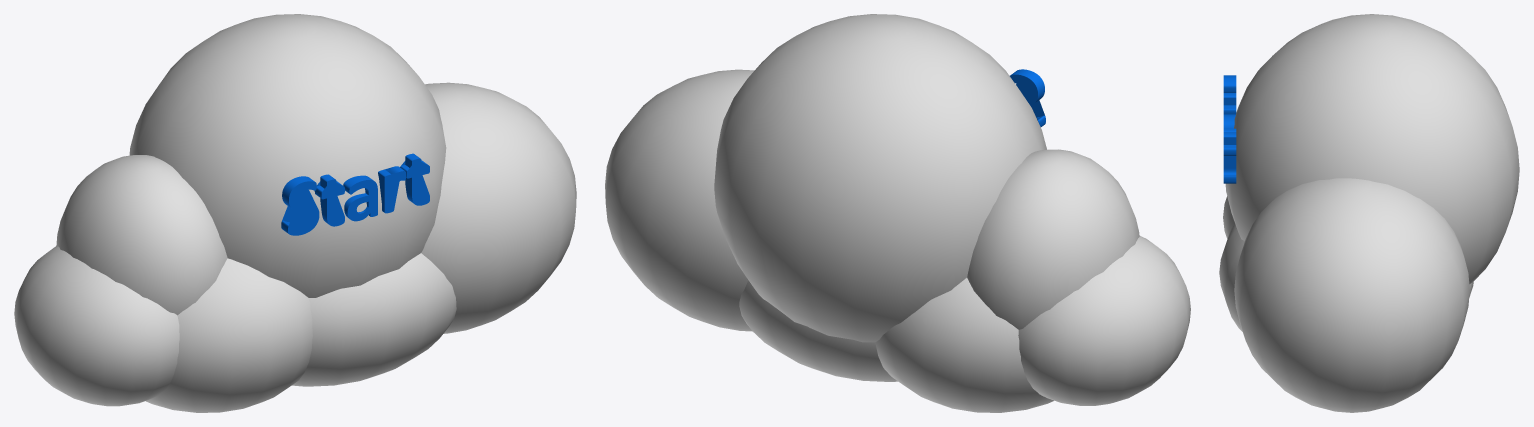
Rendered from cloud.fbx.
The picture shows the model from 3 angles, left to right: view 1: azimuth 30°, elevation 25°; view 2: azimuth 150°, elevation 25°; view 3: azimuth 270°, elevation 25°; orthographic projection. The views are drawn at different scales.
Visible parts, largest first — view 1: pSphere8, pSphere1, pSphere5, pSphere7, pSphere4, pSphere3, typeMesh1; view 2: pSphere8, pSphere1, pSphere7, pSphere5, pSphere4, pSphere3, typeMesh1; view 3: pSphere8, pSphere1, typeMesh1, pSphere3, pSphere4.
Part boxes in pixels (left/top/right/bottom): pSphere8: left=129, top=14, right=446, bottom=297; pSphere1: left=421, top=82, right=576, bottom=333; pSphere5: left=14, top=246, right=179, bottom=406; pSphere7: left=56, top=155, right=227, bottom=315; pSphere4: left=145, top=258, right=312, bottom=412; pSphere3: left=292, top=253, right=456, bottom=386; typeMesh1: left=281, top=153, right=429, bottom=235; pSphere8: left=714, top=14, right=1046, bottom=342; pSphere1: left=605, top=69, right=754, bottom=331; pSphere7: left=967, top=149, right=1139, bottom=329; pSphere5: left=1018, top=236, right=1190, bottom=405; pSphere4: left=875, top=278, right=1053, bottom=412; pSphere3: left=739, top=281, right=897, bottom=381; typeMesh1: left=1010, top=69, right=1045, bottom=126; pSphere8: left=1225, top=14, right=1519, bottom=284; pSphere1: left=1234, top=178, right=1469, bottom=412; typeMesh1: left=1223, top=75, right=1236, bottom=183; pSphere3: left=1219, top=223, right=1473, bottom=331; pSphere4: left=1223, top=196, right=1234, bottom=238.
Size of the model in its own units: 6.26 by 3.79 by 3.2.
